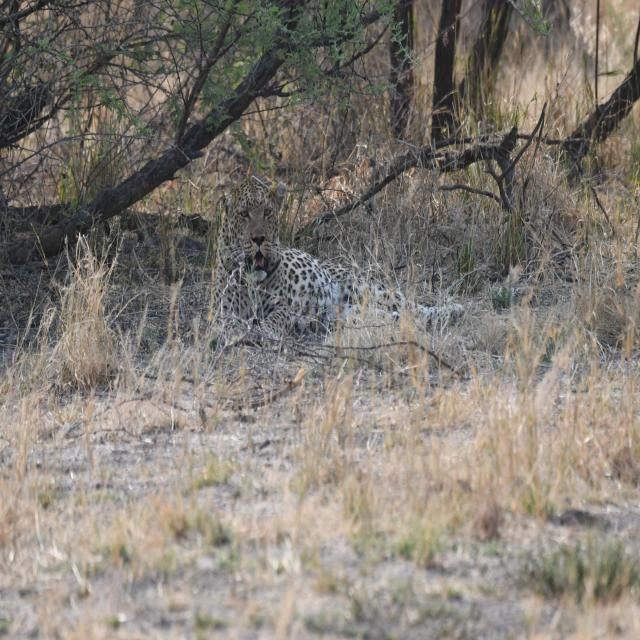Leopard: (212, 172, 461, 360)
